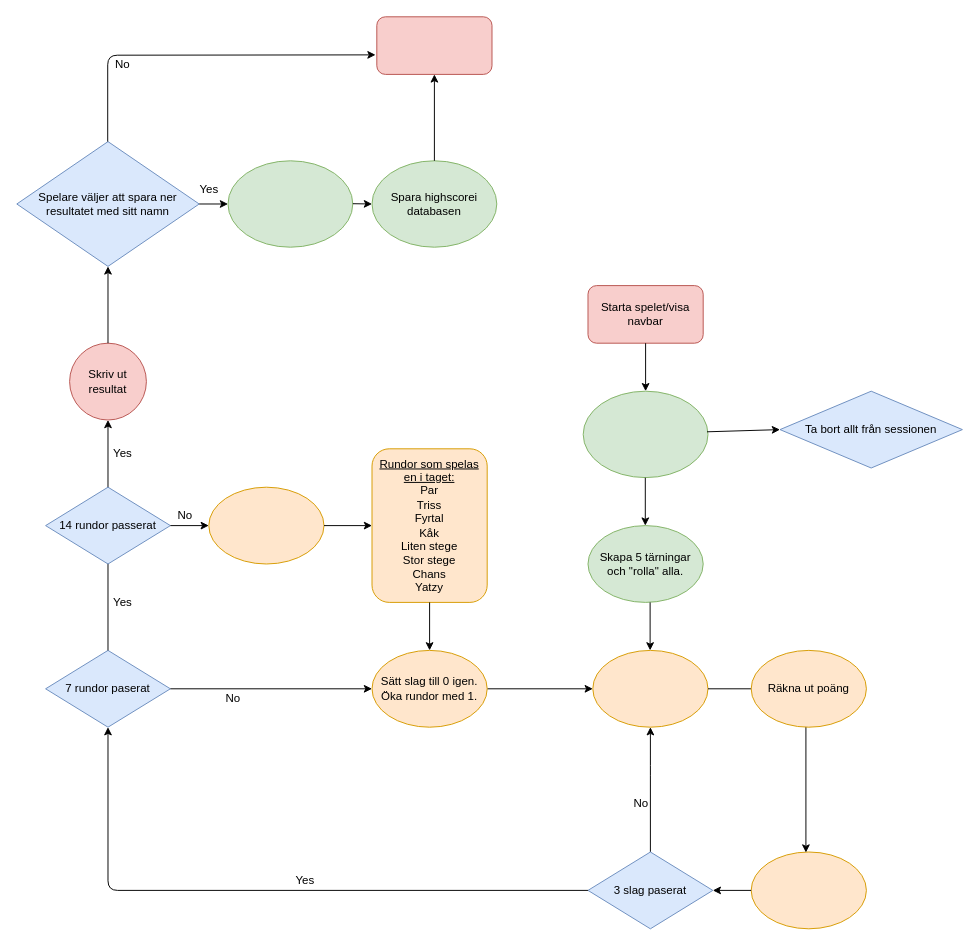
Some shapes in this 979 by 946 pixel diagram are drawn without their labels. Here are the shapes that lost their labels. From the top down, the box of each, then its label:
(376, 16, 492, 74): Spelet är slut
(227, 160, 353, 247): Räkna ut highscore
(582, 390, 708, 478): Skapa objekt för spelet yatzy i session
(208, 486, 324, 564): olika delar av yatzy spelas
(592, 649, 708, 727): Beroende på val, behåll eller rolla om tärningar
(750, 851, 866, 929): Skriv ut nya informationen och nya resultatet
